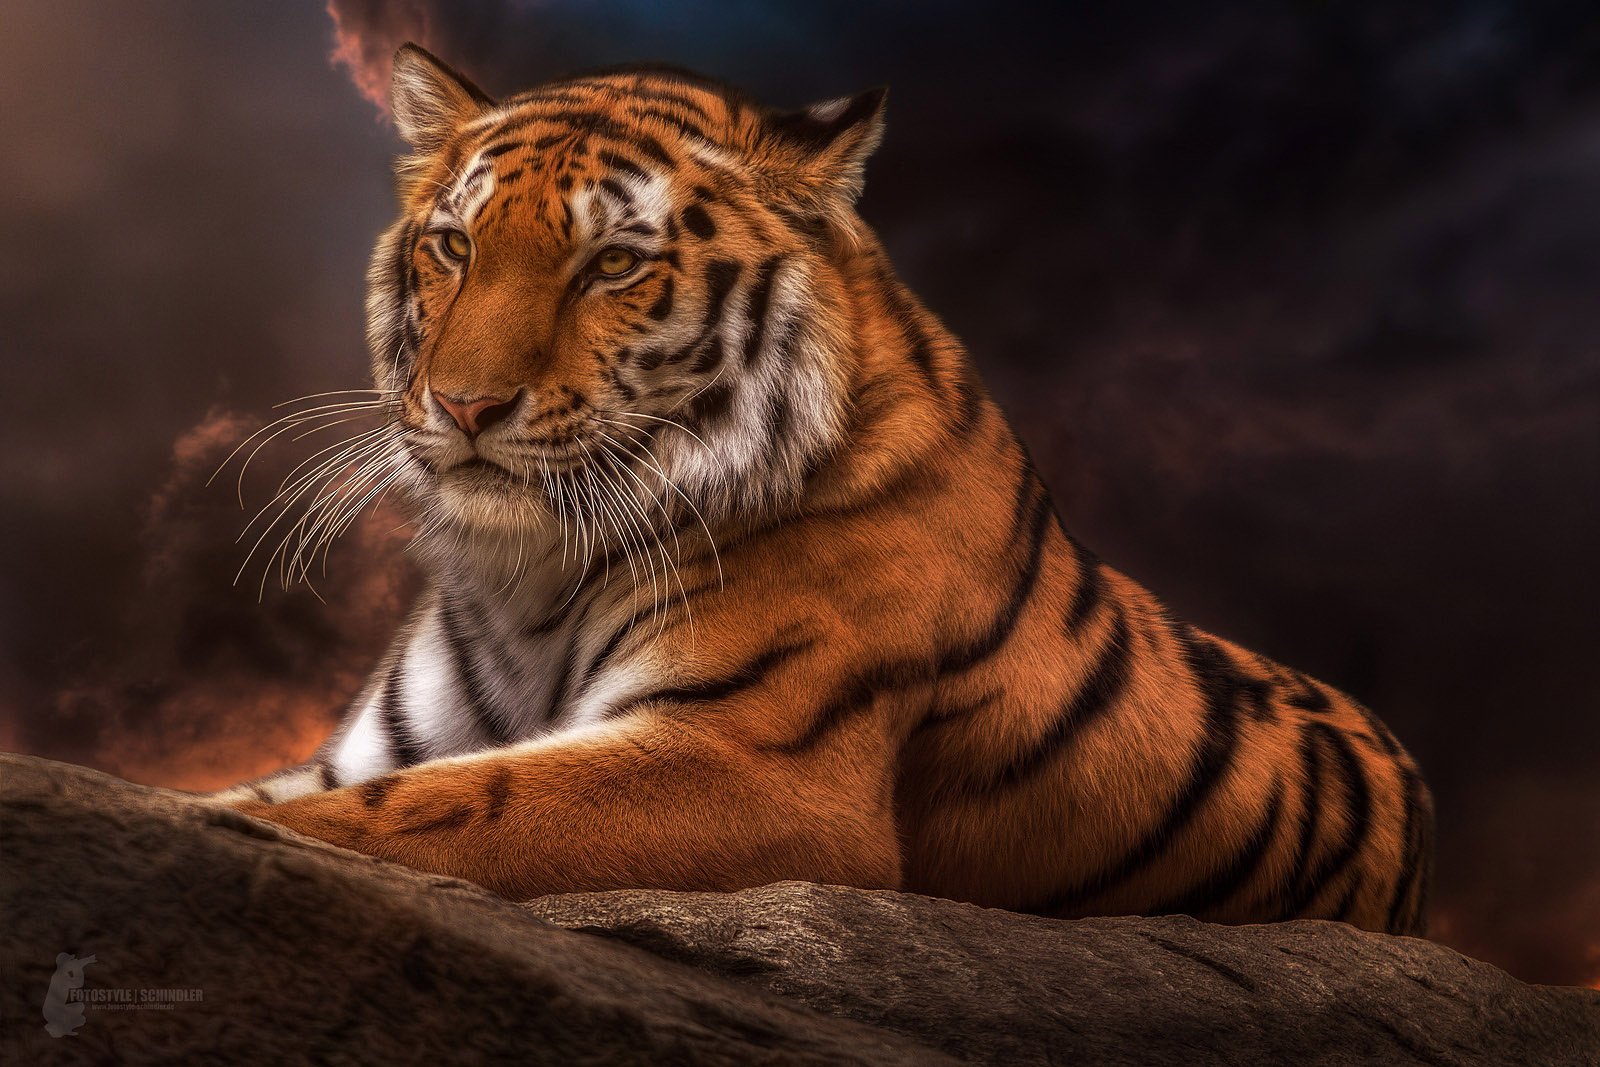tiger: (225, 39, 1429, 926)
